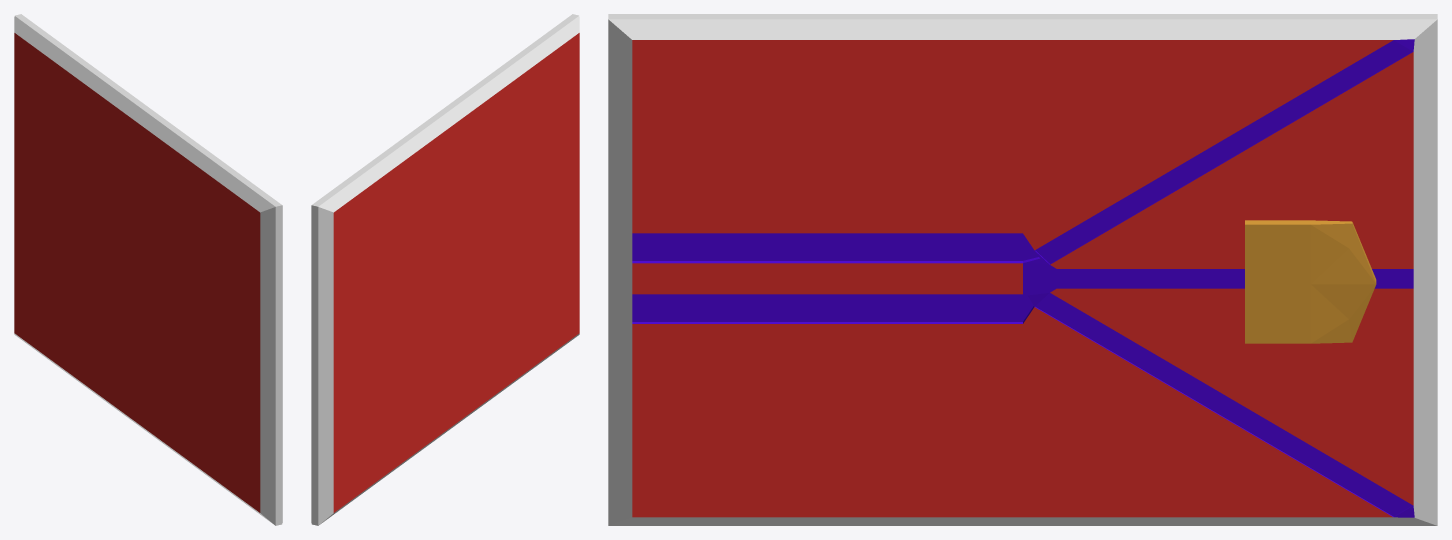
File: Card.fbx
3 renders of one model, left to right at view 1: azimuth 30°, elevation 25°; view 2: azimuth 150°, elevation 25°; view 3: azimuth 270°, elevation 25°, orthographic. The views are drawn at different scales.
Parts seen in each view (by area): view 1: Cube; view 2: Cube; view 3: Cube.
Boxes of the visible parts, bbox=[...] form: Cube: bbox=[14, 14, 282, 525]; Cube: bbox=[311, 14, 579, 525]; Cube: bbox=[608, 14, 1437, 525].
Bounding box in the file's own units: 4.88 × 50 × 74.17.
